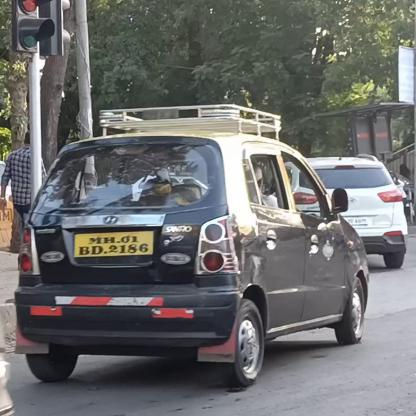license_plate: (73, 230, 153, 256)
